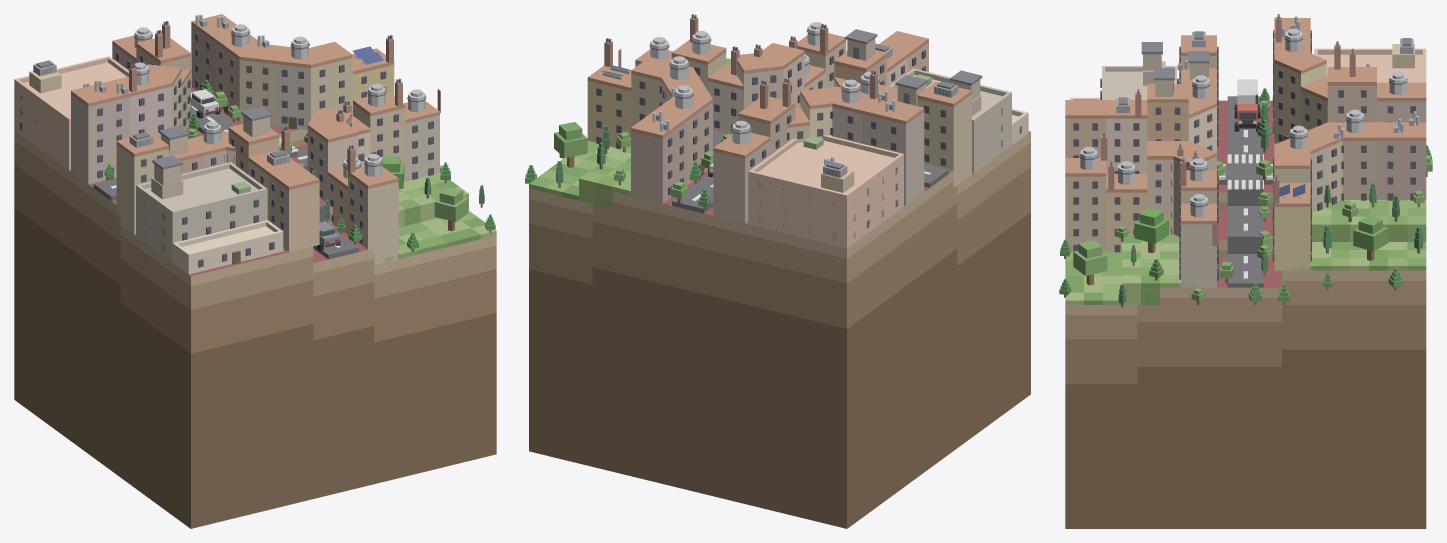
File: block_18_riparian_0.glb
3 views of the same model, side by side, from view 1: azimuth 30°, elevation 25°; view 2: azimuth 150°, elevation 25°; view 3: azimuth 270°, elevation 25° (orthographic). The views are drawn at different scales.
Parts seen in each view (by area): view 1: Patch_MidRight_b17_RP, Cerda_MidRight_b17_RP, Insets_MidRight_b17_RP, CerdaRoofProps_MidRight_b17_RP, Green_MidRight_b17_RP, Roads_MidRight_b17_RP, Asset_Tree_Round.071_RP, Asset_Car.038_RP; view 2: Patch_MidRight_b17_RP, Cerda_MidRight_b17_RP, Insets_MidRight_b17_RP, CerdaRoofProps_MidRight_b17_RP, Green_MidRight_b17_RP, Roads_MidRight_b17_RP, Asset_Tree_Round.064_RP; view 3: Patch_MidRight_b17_RP, Cerda_MidRight_b17_RP, Green_MidRight_b17_RP, CerdaRoofProps_MidRight_b17_RP, Roads_MidRight_b17_RP, Insets_MidRight_b17_RP, Asset_Truck.010_RP, Asset_Tree_Round.064_RP, Asset_Tree_Round.071_RP, Asset_Tree_Round.070_RP, Zebra_MidRight_b17_RP.
Part boxes in pixels (x1,y1,x2,y2): Patch_MidRight_b17_RP: (14, 87, 496, 528); Cerda_MidRight_b17_RP: (71, 14, 439, 266); Insets_MidRight_b17_RP: (14, 56, 283, 274); CerdaRoofProps_MidRight_b17_RP: (33, 14, 440, 185); Green_MidRight_b17_RP: (384, 172, 496, 262); Roads_MidRight_b17_RP: (93, 91, 358, 259); Asset_Tree_Round.071_RP: (434, 187, 468, 231); Asset_Car.038_RP: (191, 89, 219, 118); Patch_MidRight_b17_RP: (529, 129, 1030, 528); Cerda_MidRight_b17_RP: (587, 31, 971, 223); Insets_MidRight_b17_RP: (748, 68, 1028, 248); CerdaRoofProps_MidRight_b17_RP: (601, 14, 982, 177); Green_MidRight_b17_RP: (529, 141, 645, 208); Roads_MidRight_b17_RP: (672, 130, 948, 213); Asset_Tree_Round.064_RP: (554, 122, 587, 167); Patch_MidRight_b17_RP: (1065, 100, 1426, 528); Cerda_MidRight_b17_RP: (1065, 18, 1426, 287); Green_MidRight_b17_RP: (1065, 200, 1426, 304); CerdaRoofProps_MidRight_b17_RP: (1079, 14, 1419, 245); Roads_MidRight_b17_RP: (1218, 96, 1272, 287); Insets_MidRight_b17_RP: (1069, 44, 1426, 99); Asset_Truck.010_RP: (1234, 79, 1260, 131); Asset_Tree_Round.064_RP: (1353, 215, 1388, 260); Asset_Tree_Round.071_RP: (1073, 240, 1107, 285); Asset_Tree_Round.070_RP: (1134, 208, 1168, 253); Zebra_MidRight_b17_RP: (1219, 154, 1273, 189).
Size of the model in its own units: 10.09 by 11.16 by 9.82.
